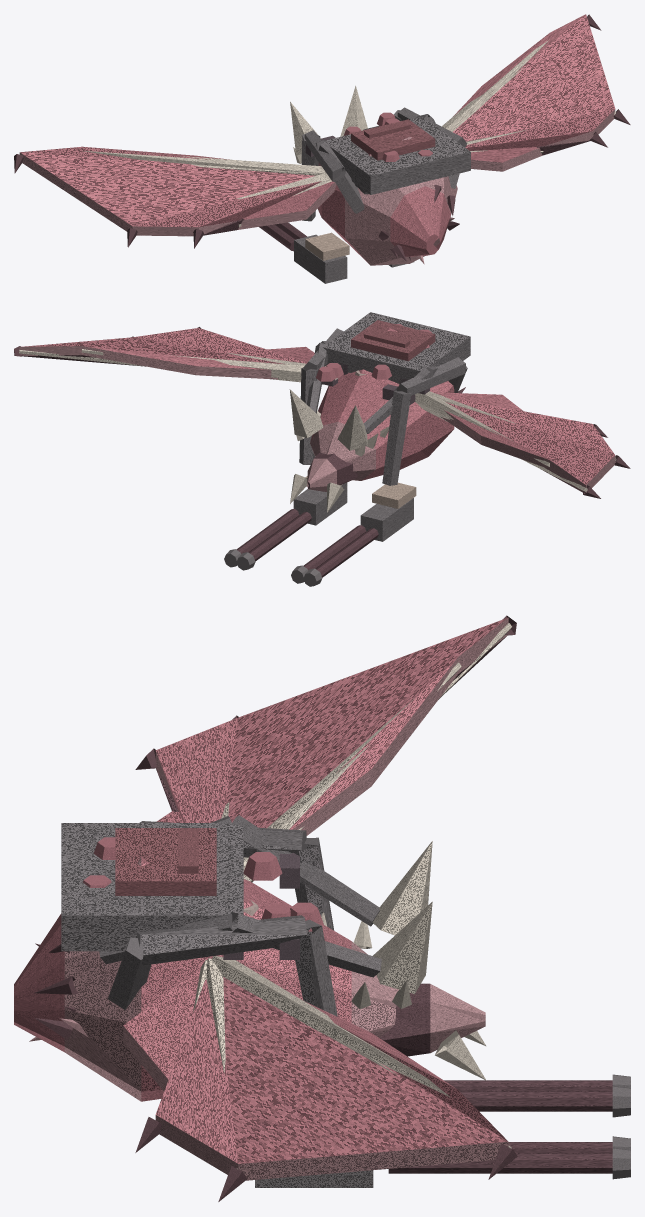
The model's file is begotten_gnat.glb.
3 renders of one model, top to bottom at view 1: azimuth 30°, elevation 25°; view 2: azimuth 150°, elevation 25°; view 3: azimuth 270°, elevation 25°, orthographic. The views are drawn at different scales.
Visible parts, largest first — view 1: begotten_gnat; view 2: begotten_gnat; view 3: begotten_gnat.
Part boxes in pixels (box(x1,y1,x2,y2)): begotten_gnat: box(14, 14, 630, 283); begotten_gnat: box(14, 312, 630, 586); begotten_gnat: box(14, 615, 630, 1201).
Bounding box in the file's own units: 11.42 × 2.94 × 5.48.
Materials: 9 (9 with a texture image).
